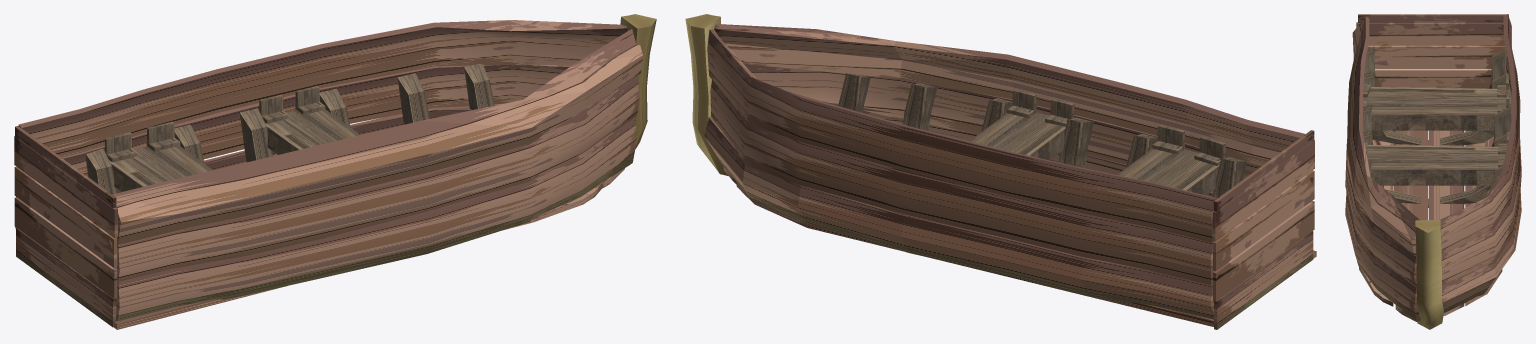
Rendered from Boat 1.fbx.
3 renders of one model, left to right at view 1: azimuth 30°, elevation 25°; view 2: azimuth 150°, elevation 25°; view 3: azimuth 270°, elevation 25°, orthographic. The views are drawn at different scales.
Visible parts, largest first — view 1: pPlane9 (×2), pPlane8 (×2), pPlane7 (×2), pCube3, pCube4, pCube5, pCube2, pCube14, pCube15, pCube1, pPlane14, pCube6 (+7 smaller); view 2: pPlane7 (×2), pPlane8 (×2), pPlane9 (×2), pCube3, pCube4, pCube5, pCube2, pCube15, pCube14, pCube1, pPlane12, pCube6 (+8 smaller); view 3: pPlane7 (×2), pPlane9 (×2), pCube14, pPlane8 (×2), pCube15, pCube5, pCube4, pCube1, pCube3, pCube8, pPlane11, pCube6 (+6 smaller).
Boxes of the visible parts, x1,y1,x2,y2 form: pPlane9 (×2): [18, 20, 636, 321]; pPlane8 (×2): [16, 64, 639, 286]; pPlane7 (×2): [15, 29, 642, 246]; pCube3: [14, 197, 117, 298]; pCube4: [14, 166, 117, 268]; pCube5: [14, 136, 117, 238]; pCube2: [16, 227, 116, 327]; pCube14: [109, 145, 212, 191]; pCube15: [265, 109, 360, 154]; pCube1: [620, 14, 656, 149]; pPlane14: [113, 182, 603, 329]; pCube6: [15, 126, 116, 208]; pPlane7 (×2): [704, 24, 1304, 319]; pPlane8 (×2): [710, 64, 1260, 285]; pPlane9 (×2): [707, 29, 1217, 242]; pCube3: [1213, 201, 1314, 301]; pCube4: [1213, 170, 1314, 270]; pCube5: [1212, 140, 1314, 241]; pCube2: [1214, 231, 1313, 329]; pCube15: [969, 112, 1065, 160]; pCube14: [1117, 148, 1219, 195]; pCube1: [685, 14, 728, 175]; pPlane12: [736, 182, 1213, 326]; pCube6: [1213, 130, 1314, 211]; pPlane7 (×2): [1347, 16, 1521, 312]; pPlane9 (×2): [1345, 14, 1520, 321]; pCube14: [1363, 87, 1511, 130]; pPlane8 (×2): [1345, 47, 1521, 288]; pCube15: [1366, 145, 1505, 185]; pCube5: [1356, 22, 1504, 45]; pCube4: [1367, 45, 1505, 68]; pCube1: [1415, 220, 1443, 329]; pCube3: [1375, 69, 1491, 88]; pCube8: [1363, 72, 1505, 145]; pPlane11: [1428, 130, 1464, 315]; pCube6: [1358, 14, 1508, 22].
Bounding box in the file's own units: 11.3 × 2.64 × 3.82.
